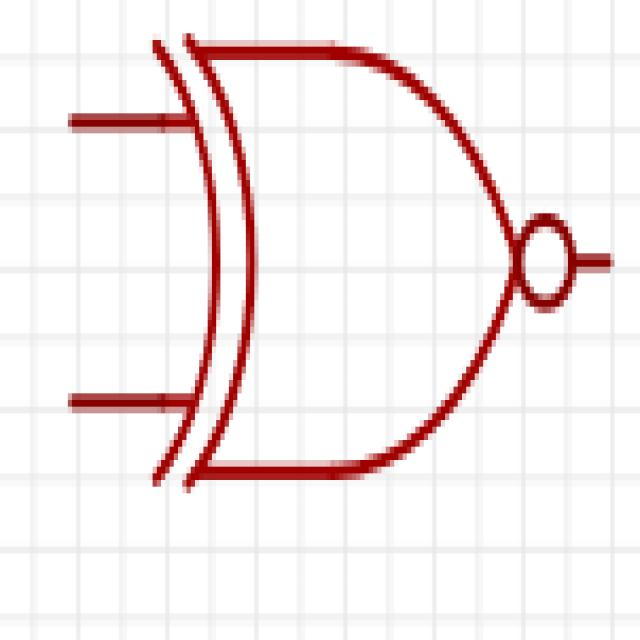xnor: (64, 18, 614, 543)
